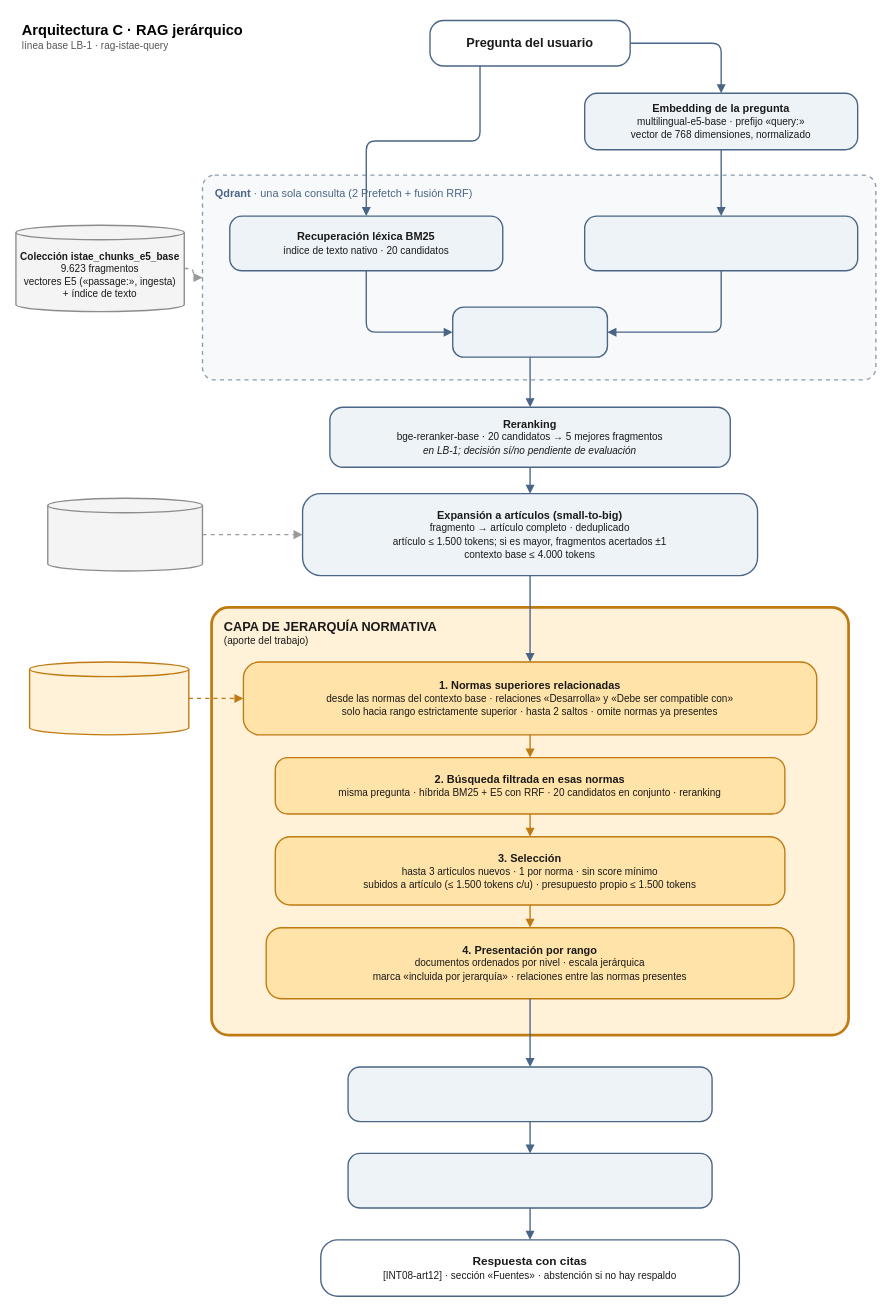
Some shapes in this 893 by 1312 pixel diagram are drawn without their labels. The centre of each missing label's shape, as x and y in pixels:
"Catálogo normativo 46 normas · rangos 2–6 214 relaciones" belongs at point (108, 698).
"Fusión RRF k = 60" belongs at point (530, 331).
"Generación (LLM) Nemotron 3 Ultra vía OpenRouter · temperatura 0,2" belongs at point (529, 1180).
"Prompt modular base + RAG + jerarquía + recordatorio de formato" belongs at point (529, 1094).
"Recuperación semántica similitud coseno · 20 candidatos" belongs at point (721, 243).
"units.jsonl 2.748 unidades fragmento → artículo" belongs at point (125, 534).
